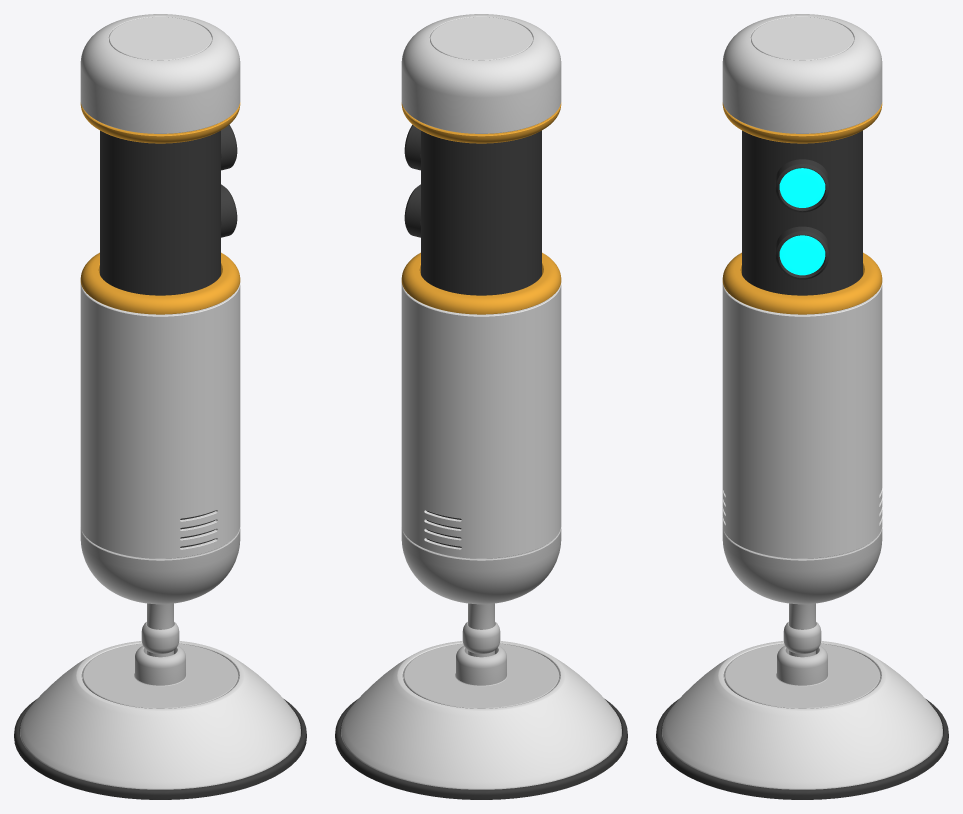
The picture shows the model from 3 angles, left to right: view 1: azimuth 30°, elevation 25°; view 2: azimuth 150°, elevation 25°; view 3: azimuth 270°, elevation 25°; orthographic projection.
Visible parts, largest first — view 1: Lamp Robo; view 2: Lamp Robo; view 3: Lamp Robo.
Boxes of the visible parts, box(x1,y1,x2,y2) form: Lamp Robo: box(14, 14, 306, 799); Lamp Robo: box(335, 14, 627, 799); Lamp Robo: box(656, 14, 948, 799).
Bounding box in the file's own units: 208 × 550 × 208.
